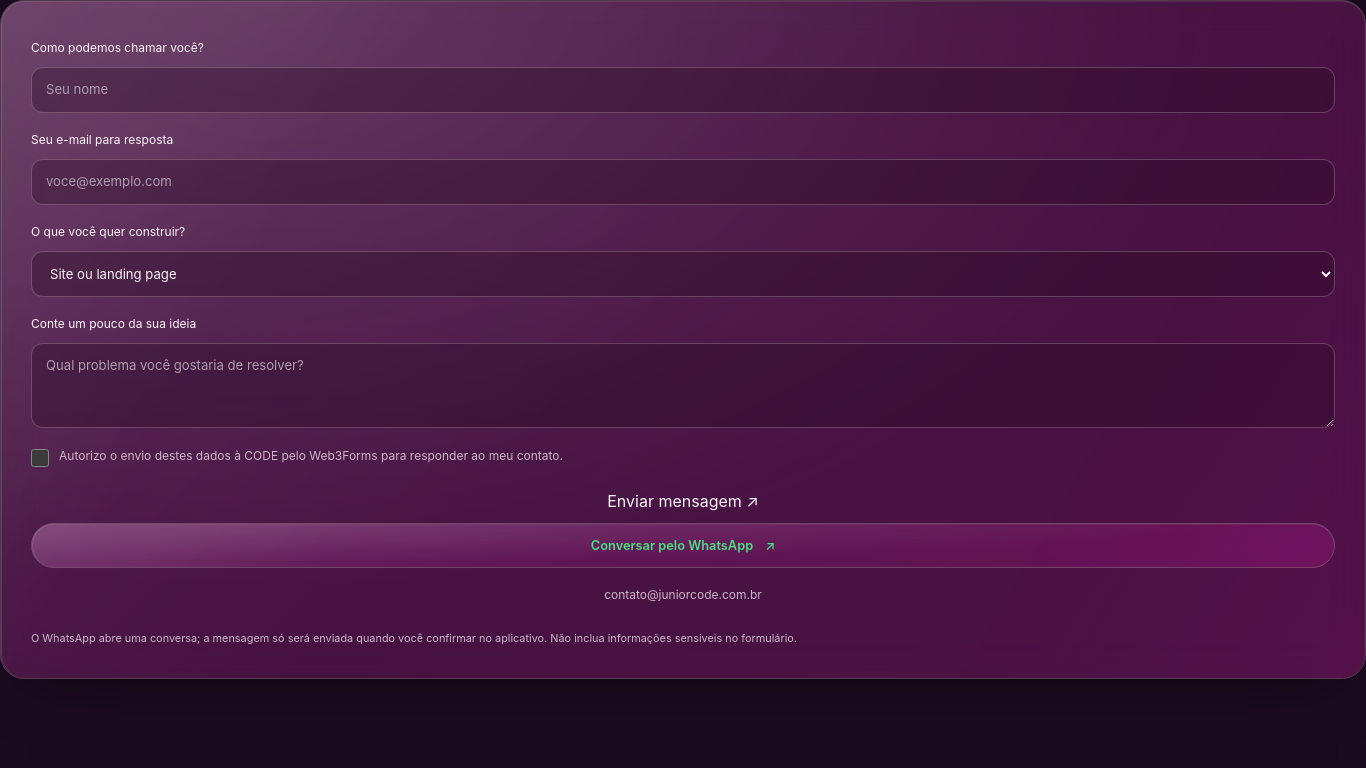
Test: Contato CODE › preserva a mensagem quando há falha: rejected
Type "Pessoa de teste" into the field labelled "Como podemos chamar você?" at (683, 90), box x1=31 y1=67 x2=1335 y2=113
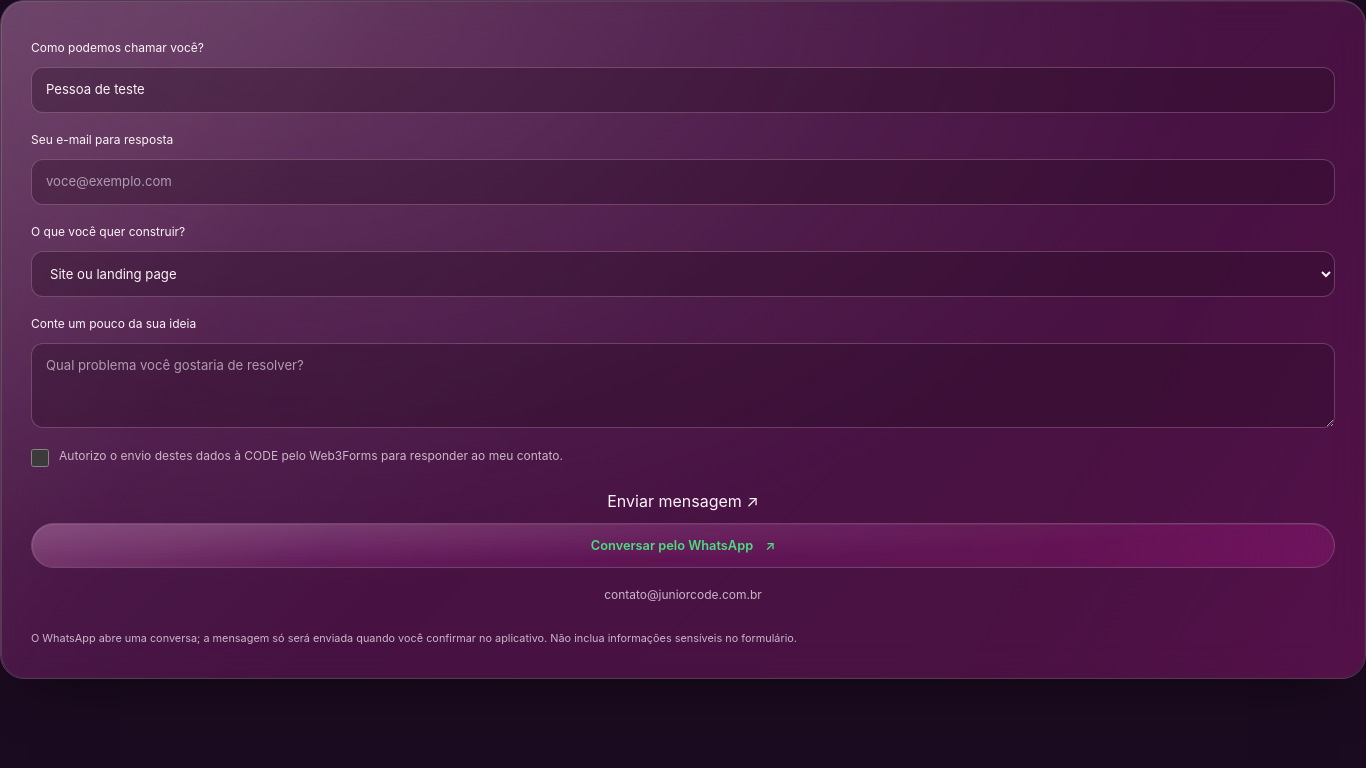
Type "teste@example.com" into the field labelled "Seu e-mail para resposta" at (683, 182), box x1=31 y1=159 x2=1335 y2=205
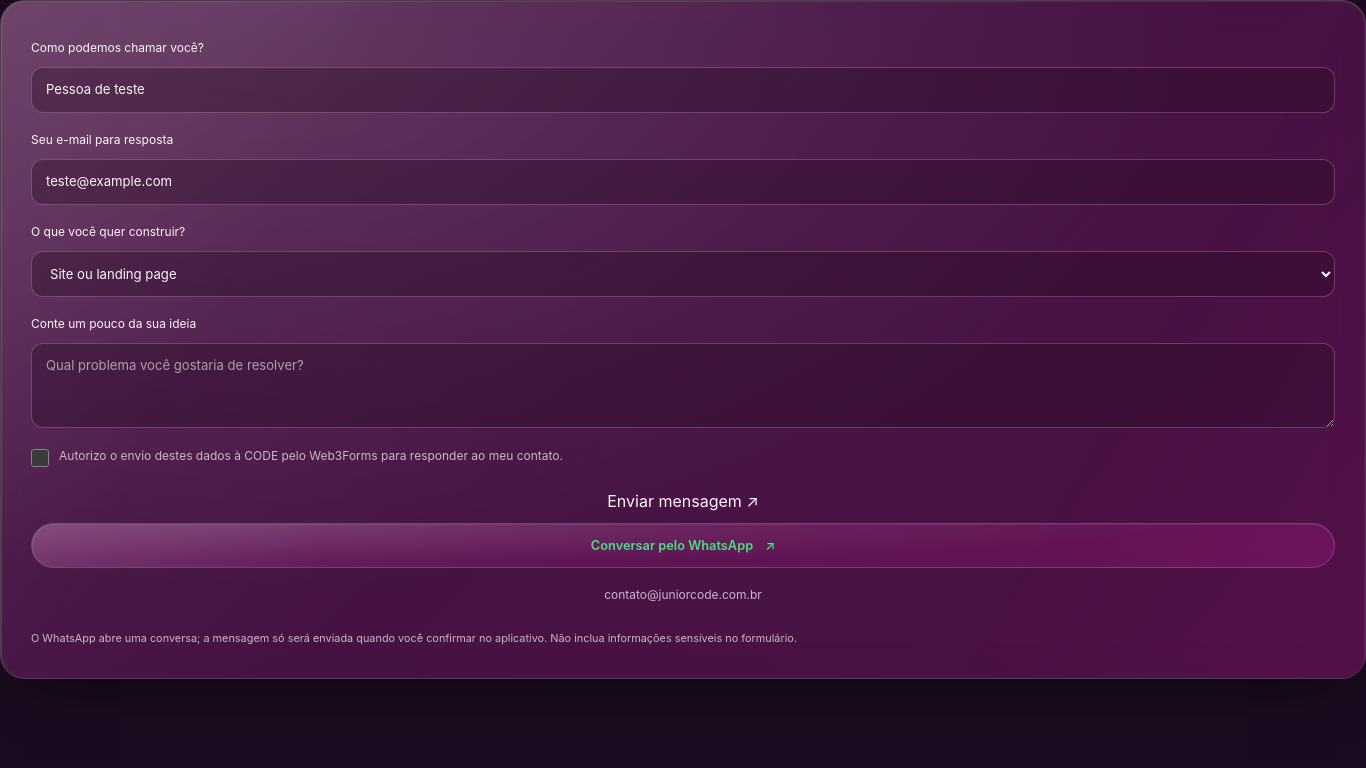
Type "Gostaria de construir um site." into the text box labelled "Conte um pouco da sua ideia" at (683, 386), box x1=31 y1=343 x2=1335 y2=428
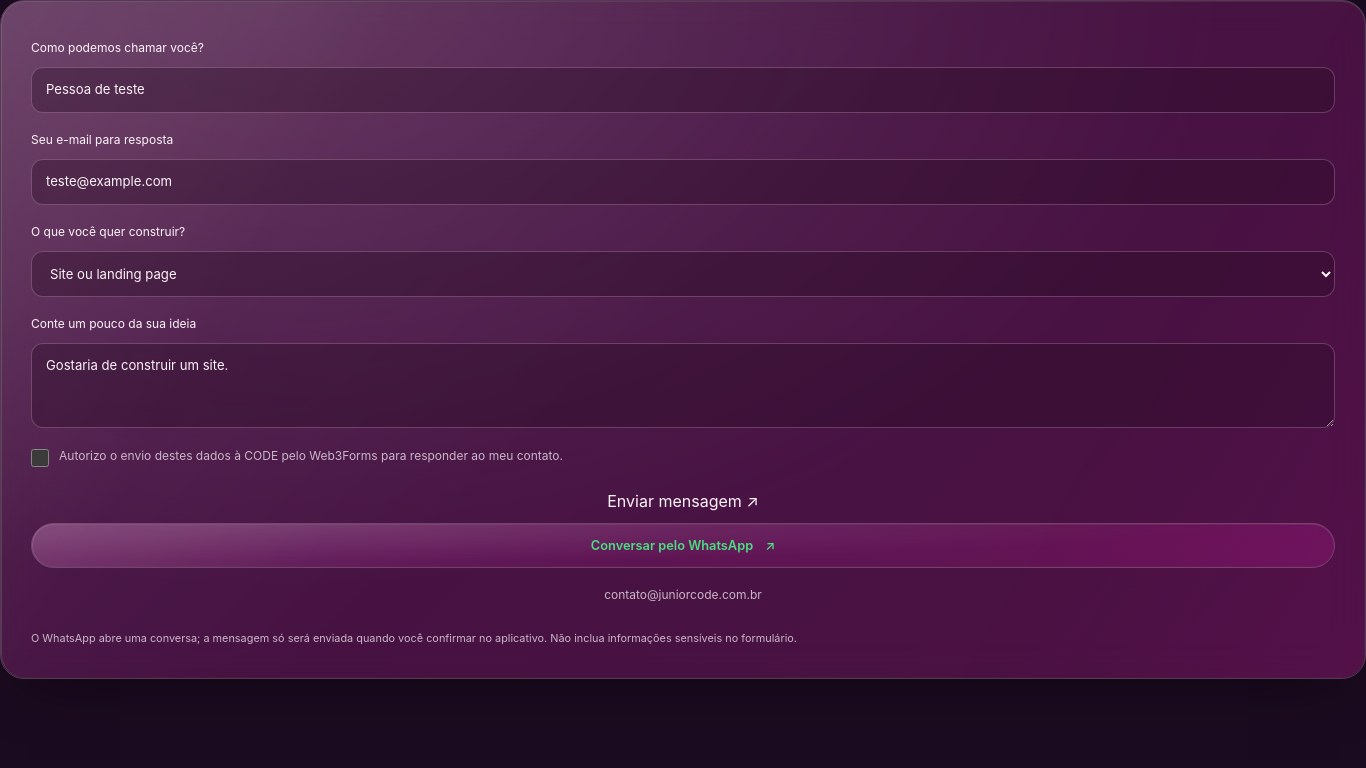
Click the checkbox at (40, 458), box x1=31 y1=449 x2=49 y2=467
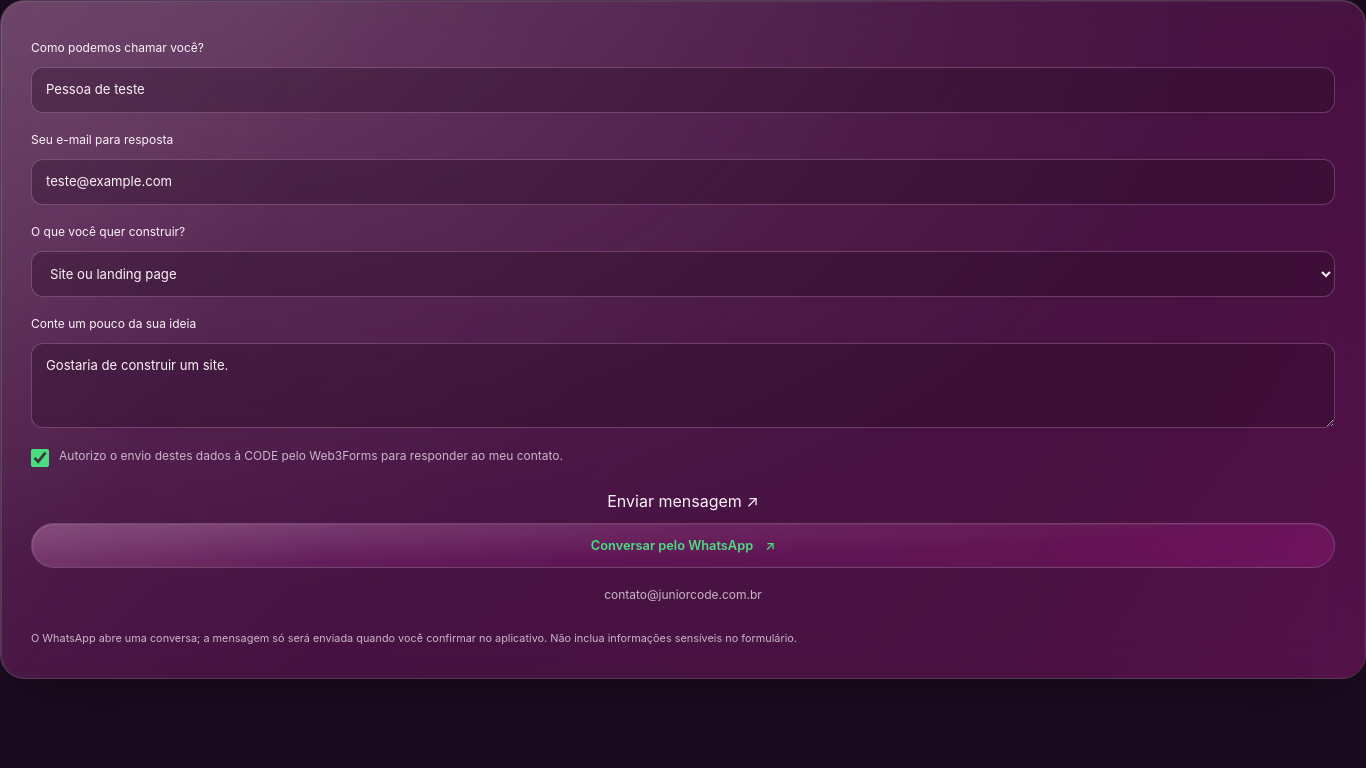
Submit the form
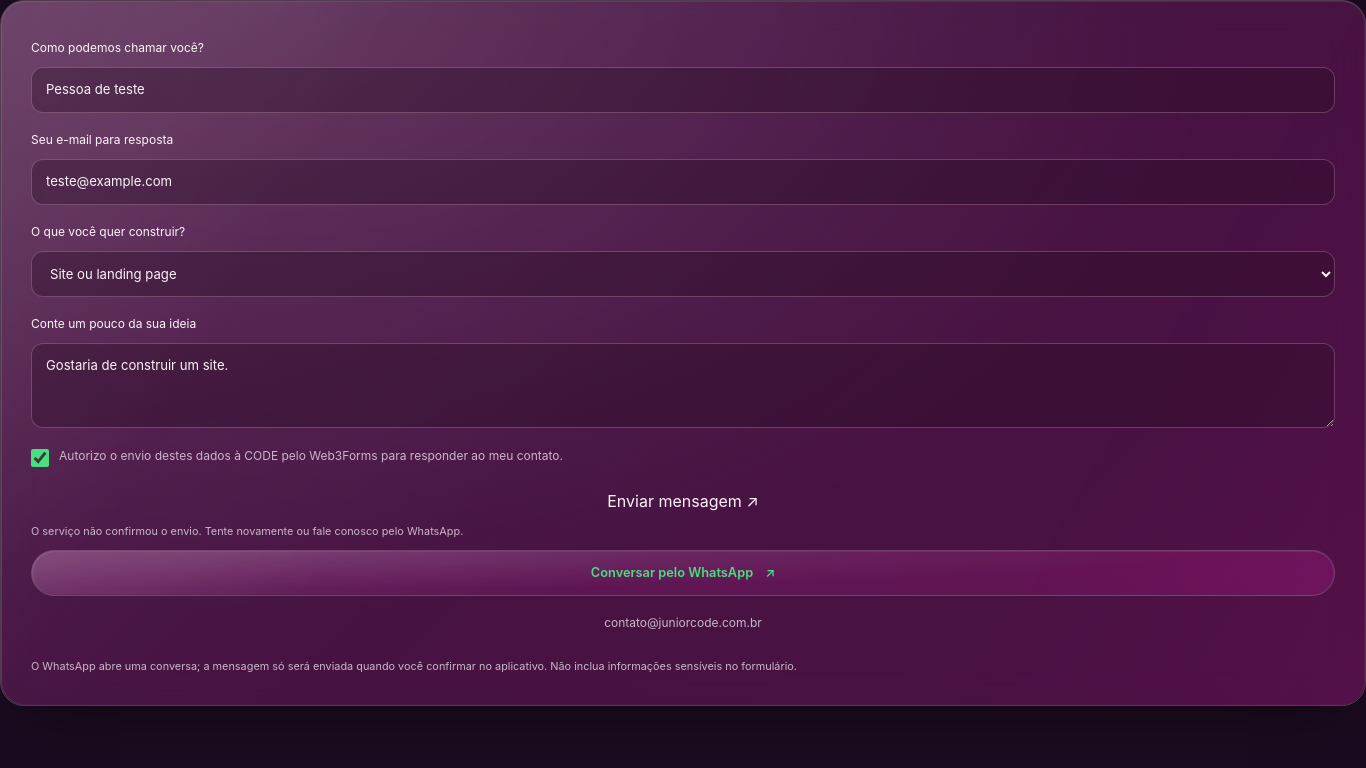
Now the message is shown, box x1=31 y1=524 x2=463 y2=538
